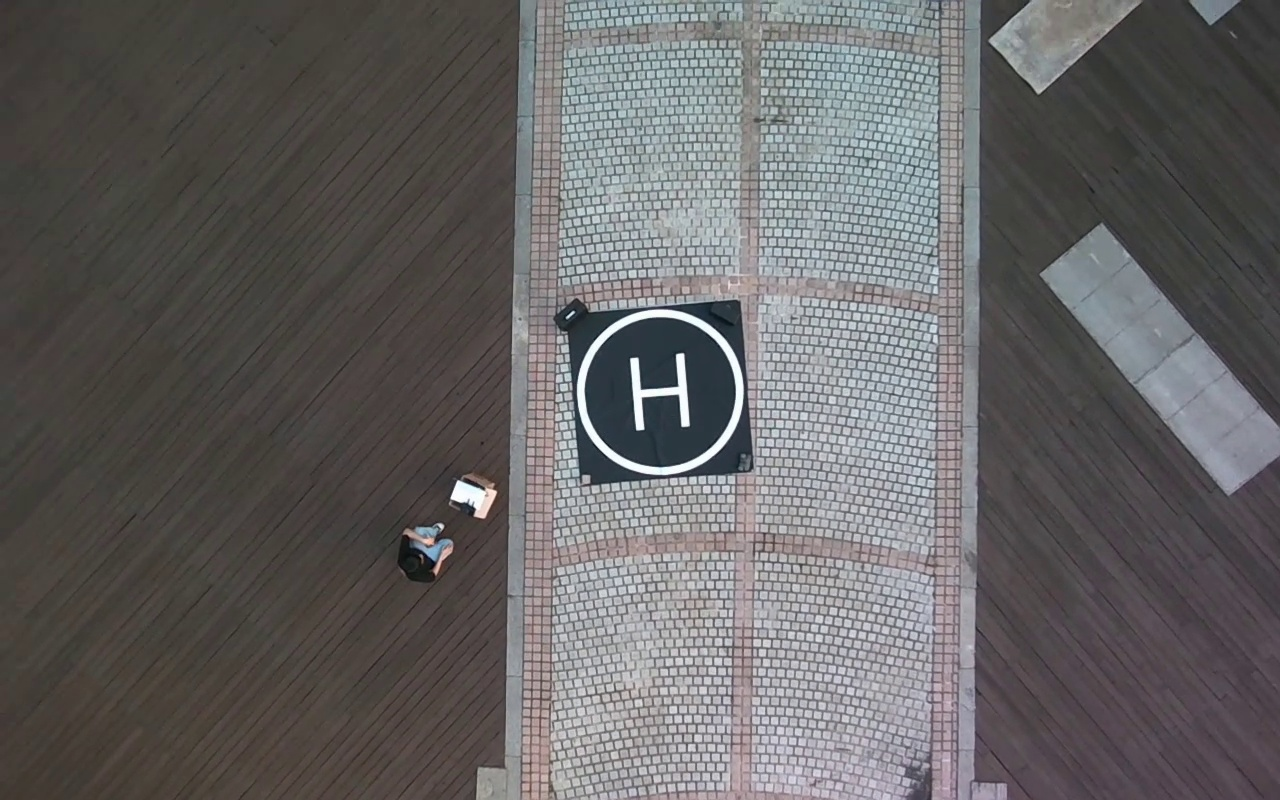H: (628, 353, 690, 429)
heliport: (575, 310, 741, 474)
